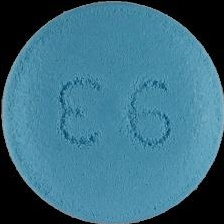42291-271: (0, 0, 224, 224)
